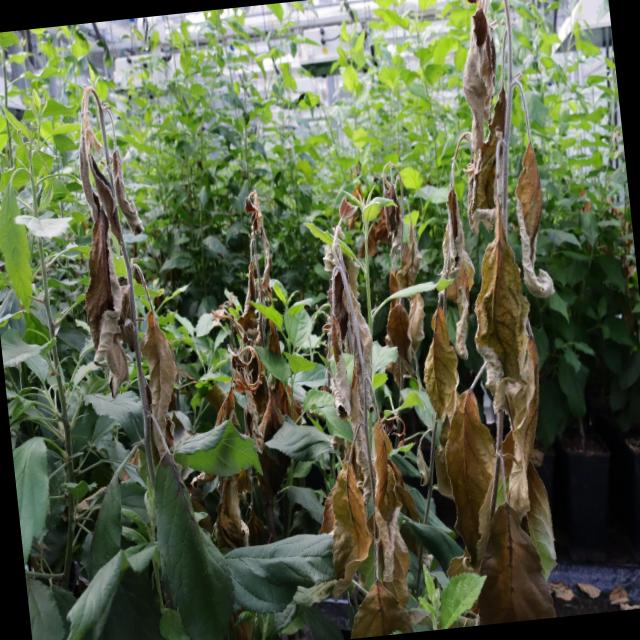-FireBlight-: (395, 0, 571, 627), (302, 223, 418, 639), (66, 86, 186, 469), (210, 188, 304, 473)
